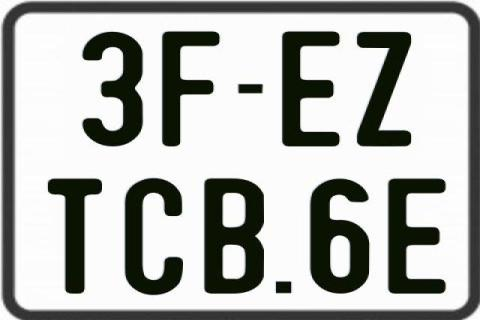0: (81, 30, 147, 148), (310, 177, 375, 295)
B: (203, 177, 265, 295)
C: (122, 177, 183, 295)
E: (386, 178, 449, 294), (281, 31, 342, 150)
F: (161, 31, 222, 147)
T: (45, 178, 102, 296)
Z: (355, 30, 411, 148)
